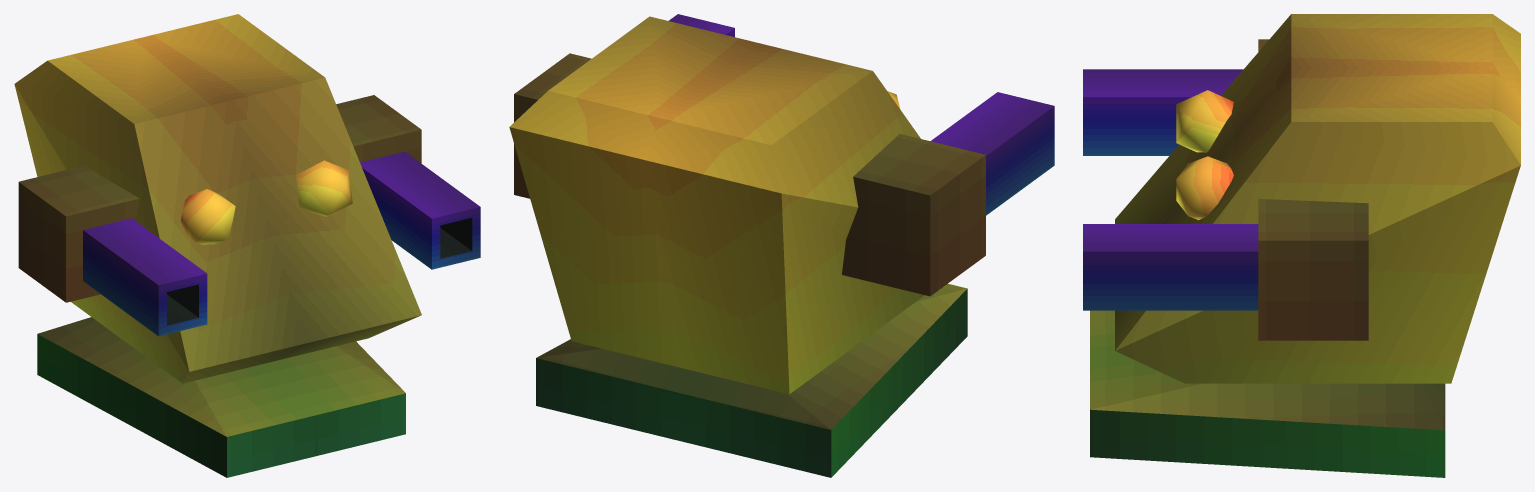
The model's file is ScootingEnemy.fbx.
The picture shows the model from 3 angles, left to right: view 1: azimuth 30°, elevation 25°; view 2: azimuth 150°, elevation 25°; view 3: azimuth 270°, elevation 25°; orthographic projection. The views are drawn at different scales.
Parts seen in each view (by area): view 1: ScootinEnemyMesh; view 2: ScootinEnemyMesh; view 3: ScootinEnemyMesh.
Part boxes in pixels (x1,y1,x2,y2): ScootinEnemyMesh: [14, 14, 480, 477]; ScootinEnemyMesh: [509, 14, 1054, 477]; ScootinEnemyMesh: [1083, 14, 1520, 477].
Bounding box in the file's own units: 128 × 117 × 100.
1 material, 1 textured.
